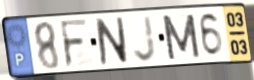6: (197, 11, 225, 58)
8: (32, 19, 61, 71)
F: (58, 17, 90, 70)
J: (132, 14, 158, 64)
M: (160, 12, 202, 62)
N: (94, 16, 130, 67)
